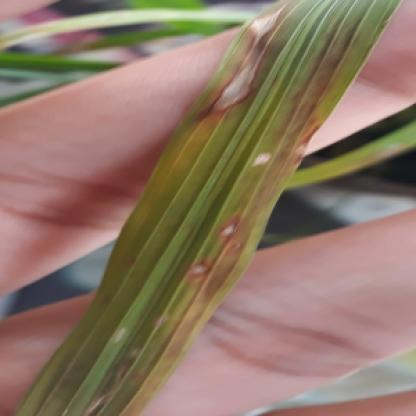Rice blast: (209, 5, 284, 130), (288, 120, 312, 176), (223, 216, 248, 245), (194, 256, 212, 283)
